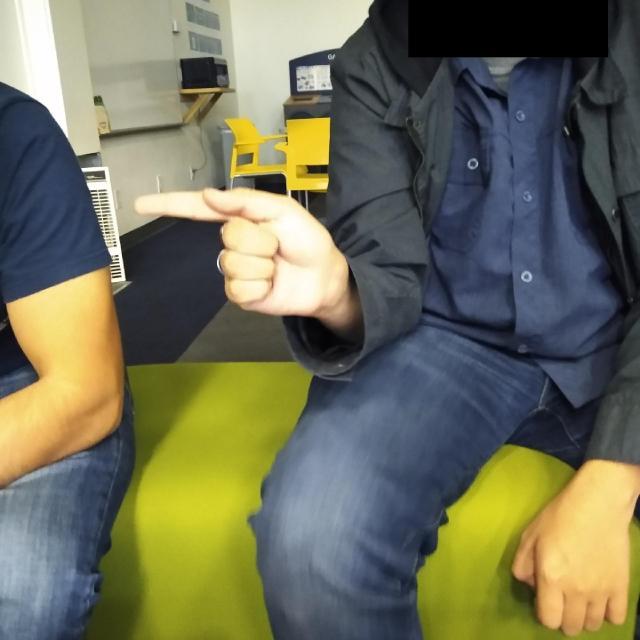G: (124, 117, 352, 384)
